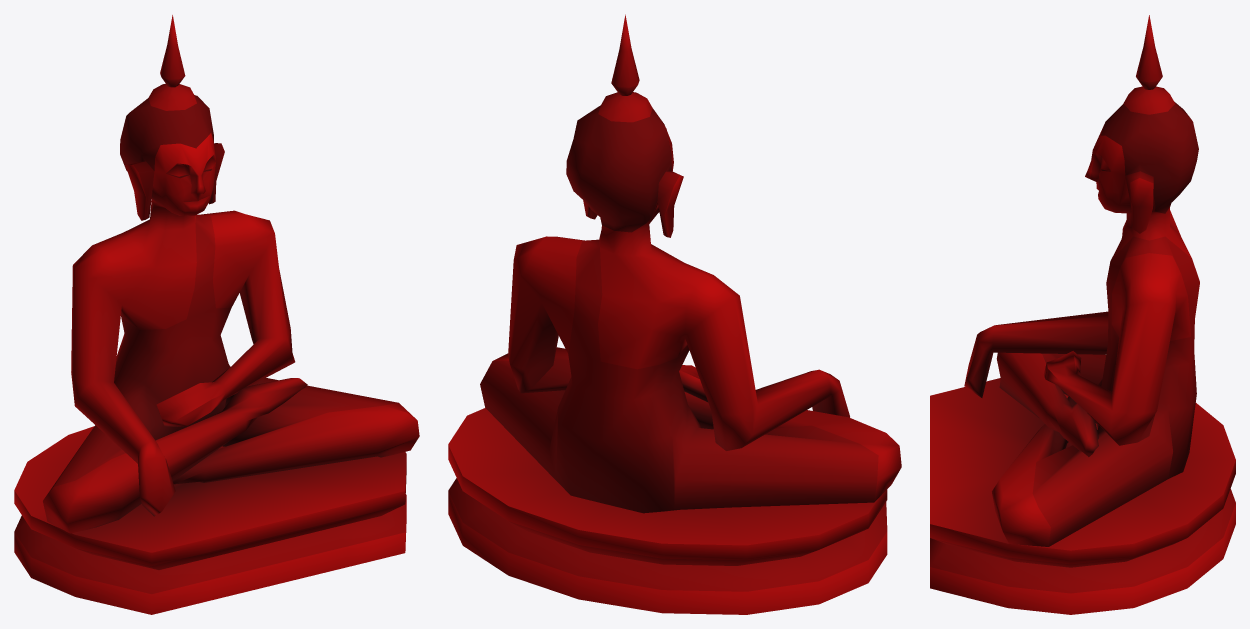
Rendered from buildings-ruins-templeruins_v1.fbx.
3 views of the same model, side by side, from view 1: azimuth 30°, elevation 25°; view 2: azimuth 150°, elevation 25°; view 3: azimuth 270°, elevation 25° (orthographic). The views are drawn at different scales.
Parts seen in each view (by area): view 1: TempleRuins_v1; view 2: TempleRuins_v1; view 3: TempleRuins_v1.
Part boxes in pixels (box(x1,y1,x2,y2)): TempleRuins_v1: box(14, 15, 419, 614); TempleRuins_v1: box(448, 14, 901, 614); TempleRuins_v1: box(930, 15, 1235, 614).
Bounding box in the file's own units: 6.04 × 7.92 × 4.31.
